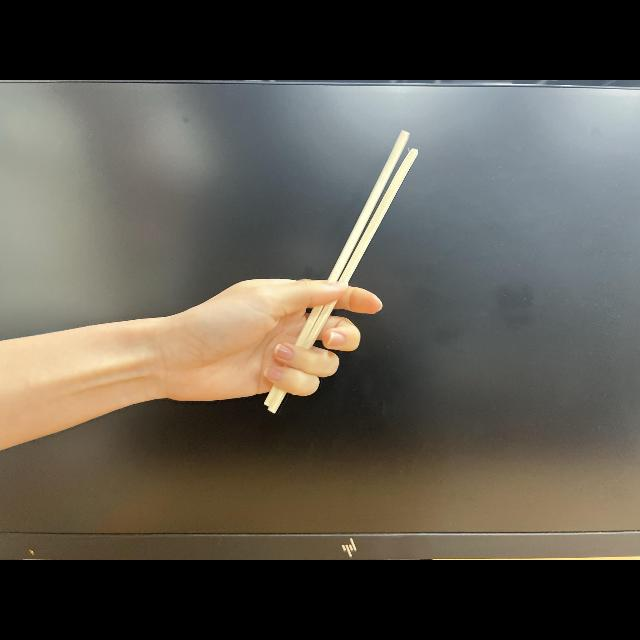stick: (184, 131, 416, 411)
